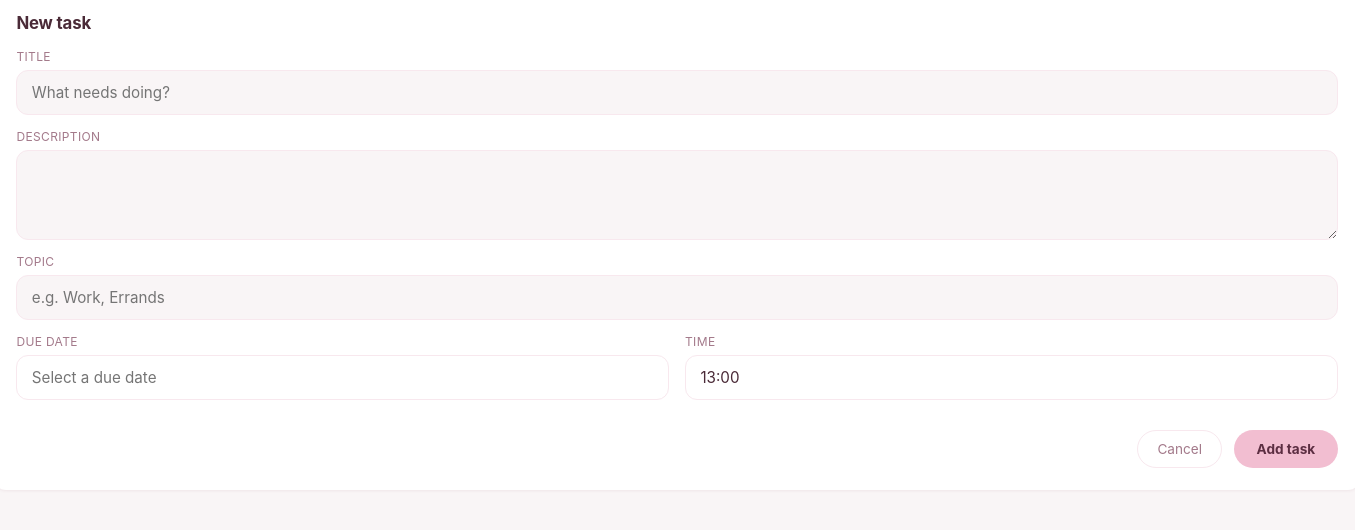
TaskForm — create mode › shows a validation error and does not submit when required fields are missing
Click the button "Add task": click(1286, 449) [1234,430,1338,468]
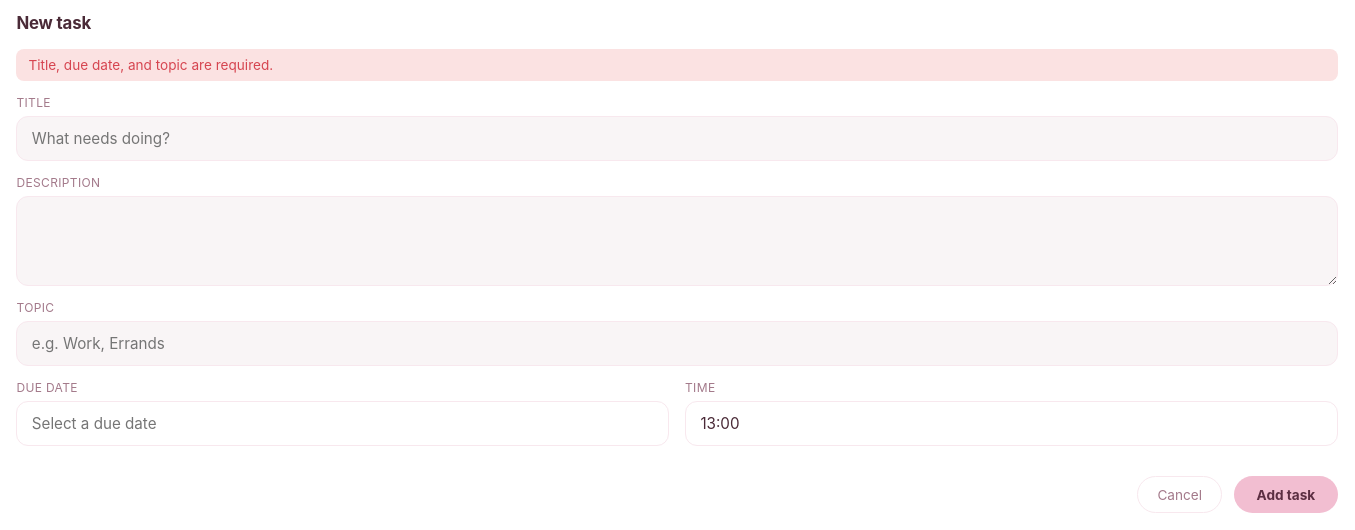
Expected: the text "Title, due date, and topic are required." is shown, [16,49,1338,81]
